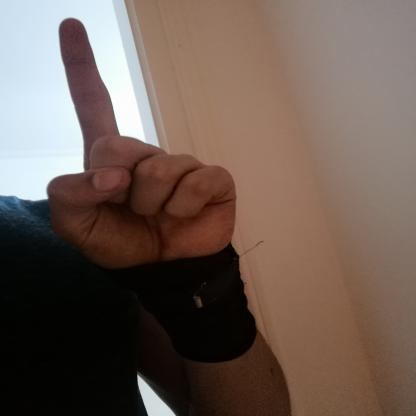BAA: (30, 9, 249, 287)
